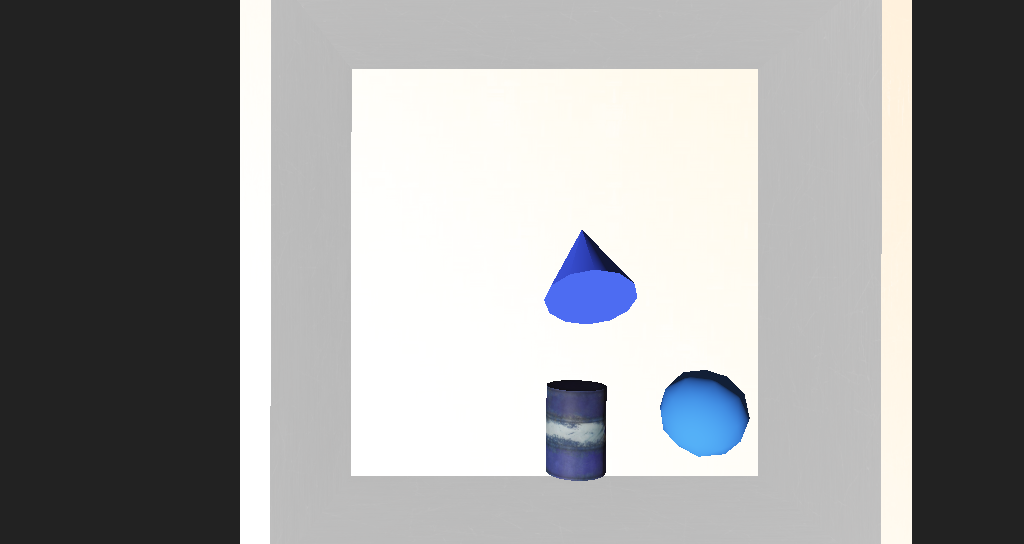cone: (502, 324, 549, 372)
cylinder: (492, 229, 559, 296)
sphere: (583, 315, 643, 363)
